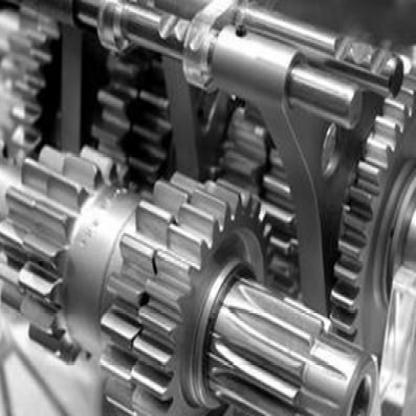FOD: (100, 164, 270, 414), (17, 148, 126, 371), (328, 68, 415, 339)
